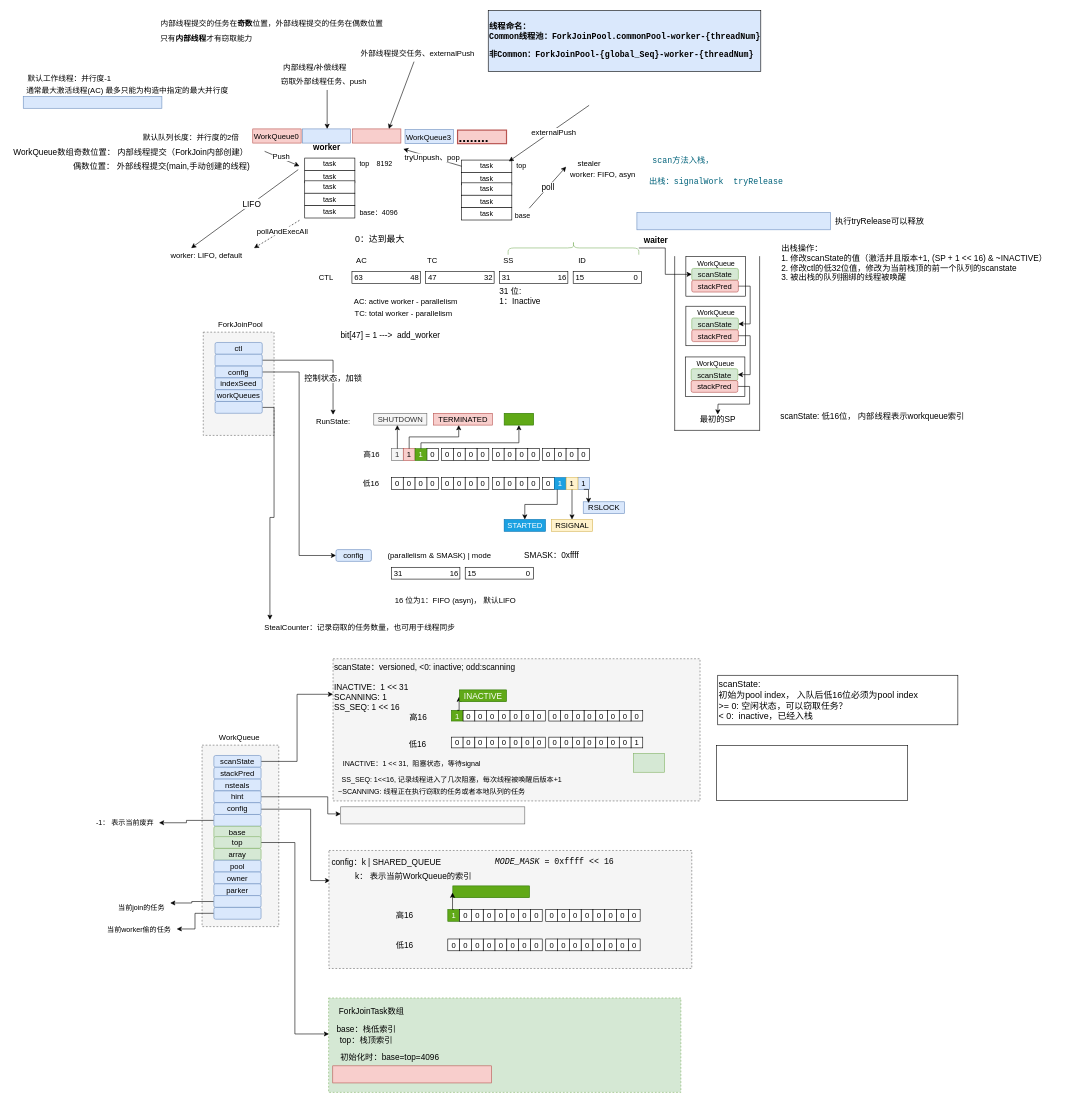
This 1067x1103 diagram has some shape labels left out. Here are the shapes that lost their labels. From the top down, the box of each, then its label:
(23, 96, 162, 108): TC 可以超过并行度(超过的为补偿线程)
(302, 128, 351, 143): WorkQueue1
(352, 128, 401, 143): WorkQueue2
(636, 212, 830, 230): 内部线程scan方法没有窃取到任务将进入该栈阻塞
(508, 241, 639, 255): SP：（int）CTL
(214, 354, 262, 366): runState
(214, 401, 262, 413): stealCounter
(504, 413, 534, 425): STOP
(633, 753, 665, 772): 1：空闲 0：繁忙
(716, 745, 908, 800): runTask： scanState &= ~ SCANNING; ..... scanState |= SCANNING
(213, 814, 261, 826): qlock
(340, 806, 525, 824): hint：r， 定位当前WorkQueu索引使用的随机数
(213, 895, 261, 907): currentJoin
(452, 885, 530, 898): SHARED_QUEUE
(213, 907, 261, 919): currentSteal
(332, 1065, 491, 1083): 外部提交任务：array[top++ & len] = task
